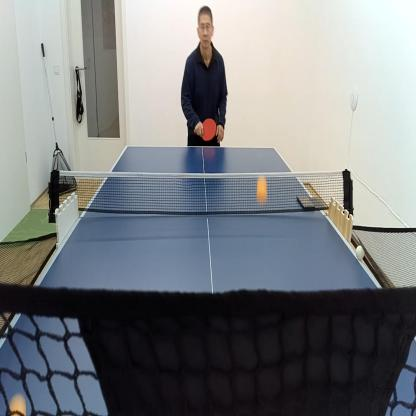Ball: (6, 391, 29, 416), (254, 173, 269, 208), (355, 242, 366, 263)
